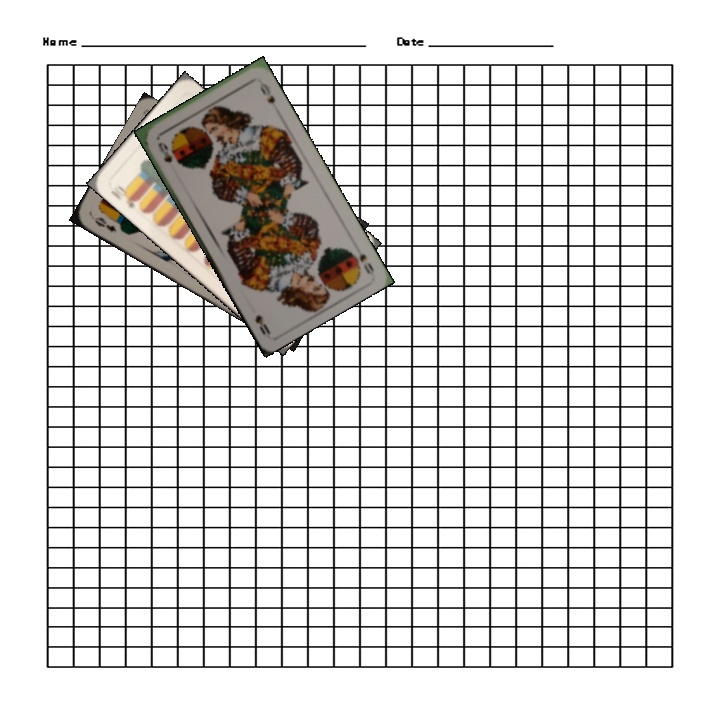E10: (106, 181, 140, 212)
EO: (88, 213, 126, 235)
SO: (355, 249, 377, 277), (154, 138, 176, 165)
